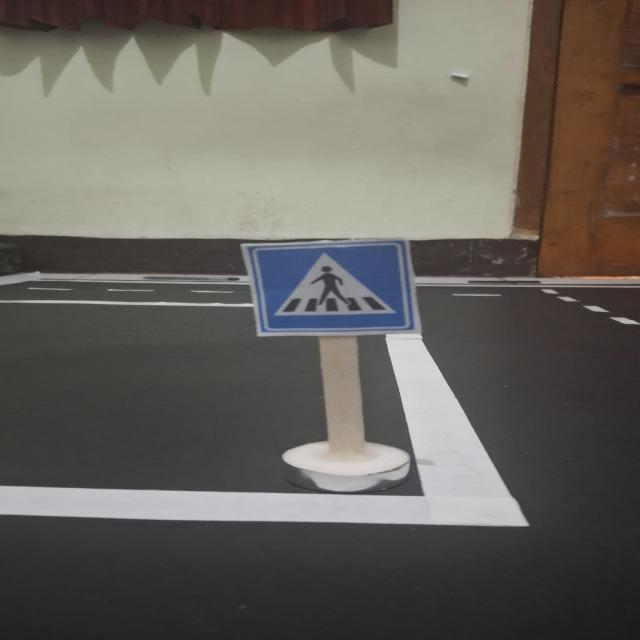Rambu Penyebrangan: (248, 240, 417, 334)
